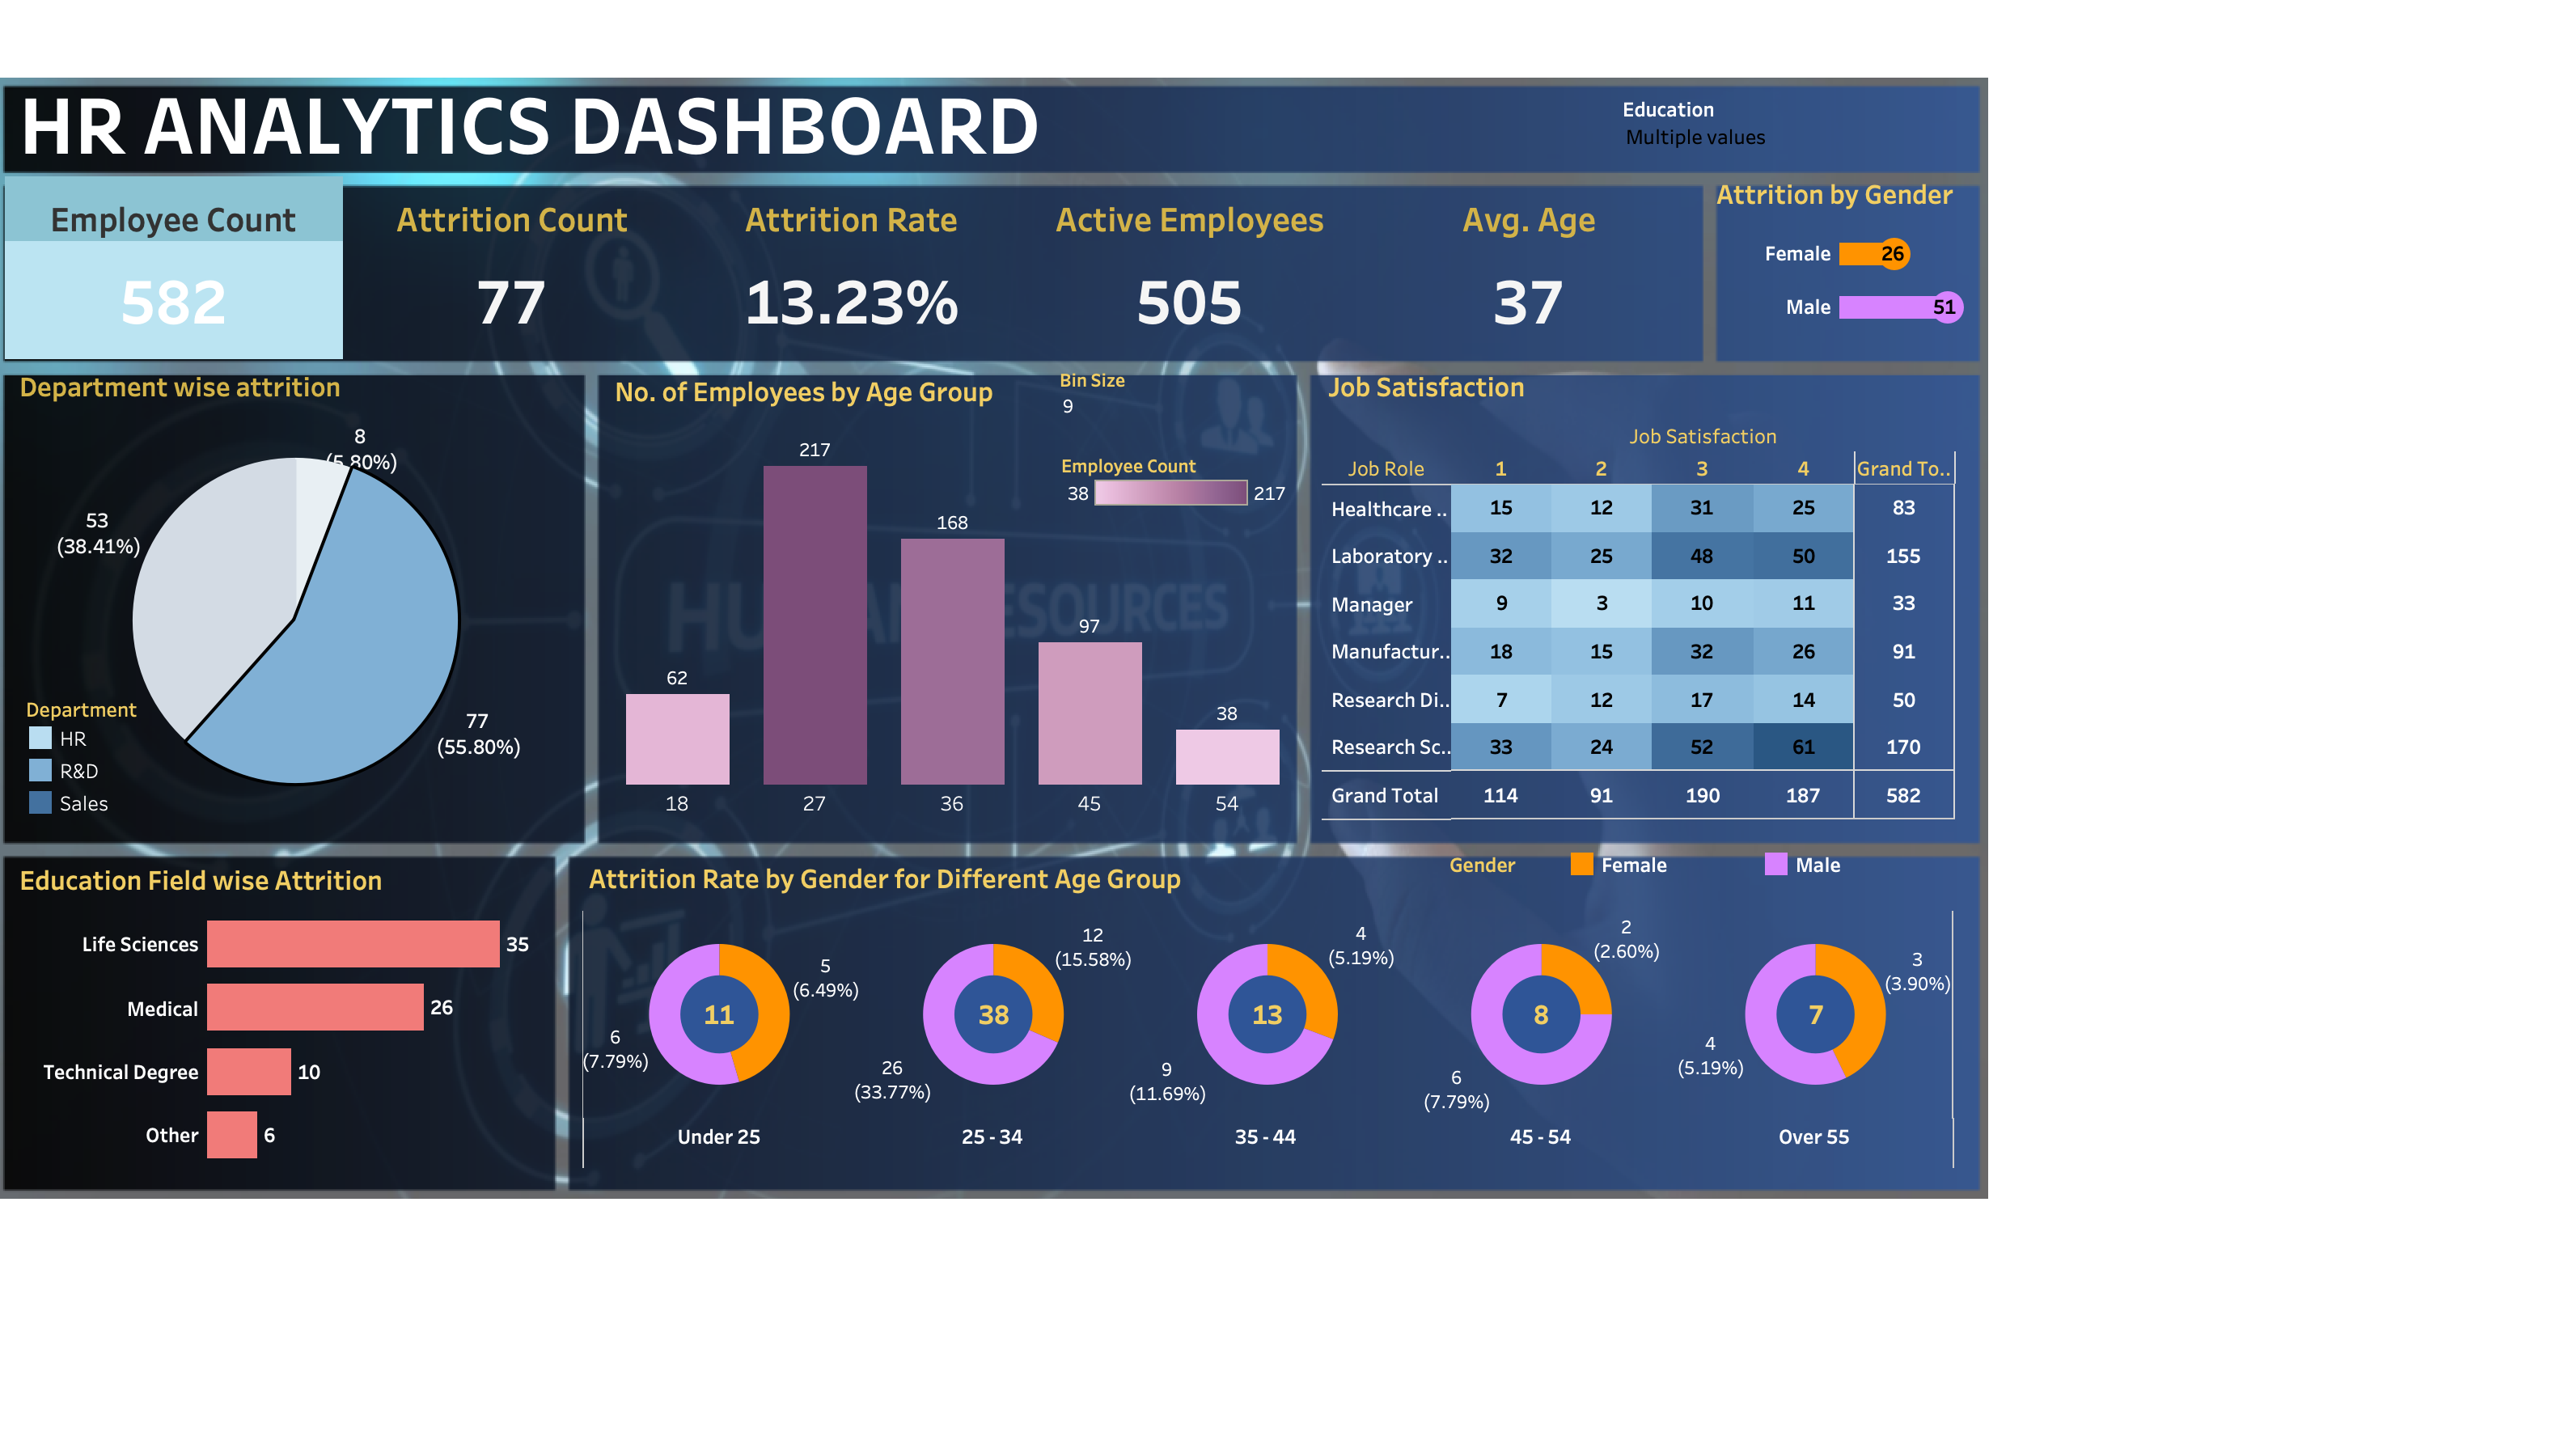

The page's visual inventory and layout, read from the dashboard file:
{"tool":"tableau","page":{"name":"HR Analytics Dashboard","canvas":[1580,900],"ordinal":0},"visuals":[{"type":"text","box":[9,46,668,58]},{"type":"filter","title":"Department wise attrition","param":"[federated.126c1e90978m581b9r5nd1xhx7pi].[none:Education:nk]","box":[1003,58,202,43]},{"type":"worksheet","title":"Attrition by Gender","mark":"Automatic","rows":["Gender"],"cols":["Calculation_2159546423284682752","Calculation_2159546423284682752"],"box":[1057,103,161,103]},{"type":"worksheet","title":"KPI","mark":"Automatic","box":[3,109,1047,113]},{"type":"worksheet","title":"Department wise attrition","mark":"Pie","box":[8,222,349,286]},{"type":"worksheet","title":"Job Satisfaction","mark":"Square","rows":["Job Role"],"cols":["Job Satisfaction"],"box":[817,222,392,285]},{"type":"worksheet","title":"No. of Employees by Age Group","mark":"Automatic","rows":["Employee Count"],"cols":["Age (bin)"],"box":[376,225,426,281]},{"type":"parameter","param":"[Parameters].[Parameter 1]","box":[655,226,141,47]},{"type":"legend","title":"No. of Employees by Age Group","param":"[federated.126c1e90978m581b9r5nd1xhx7pi].[sum:Employee Count:qk]","box":[656,276,144,46]},{"type":"legend","title":"Department wise attrition","param":"[federated.126c1e90978m581b9r5nd1xhx7pi].[none:Department:nk]","box":[15,428,114,78]},{"type":"legend","title":"Attrition Rate by Gender for Different Age Group","param":"[federated.126c1e90978m581b9r5nd1xhx7pi].[none:Gender:nk]","box":[896,524,308,35]},{"type":"worksheet","title":"Attrition Rate by Gender for Different Age Group","mark":"Pie","rows":["Calculation_2159546423493193736","Calculation_2159546423493193736"],"cols":["CF_age band"],"box":[360,526,849,197]},{"type":"worksheet","title":"Education Field wise Attrition","mark":"Automatic","rows":["Education Field"],"cols":["Calculation_2159546423284682752"],"box":[8,527,337,194]}]}

Visuals, with their boxes in screenshot pixels (x1, y1, x2, y2), scaled from the page's 1580x900 canvas onto the 2556x1456 screenshot:
text: <region>15, 74, 1095, 168</region>
"Department wise attrition" filter: <region>1623, 94, 1949, 163</region>
"Attrition by Gender" worksheet: <region>1710, 167, 1970, 333</region>
"KPI" worksheet: <region>5, 176, 1699, 359</region>
"Department wise attrition" worksheet (Pie marks): <region>13, 359, 578, 822</region>
"Job Satisfaction" worksheet (Square marks): <region>1322, 359, 1956, 820</region>
"No. of Employees by Age Group" worksheet: <region>608, 364, 1297, 819</region>
parameter: <region>1060, 366, 1288, 442</region>
"No. of Employees by Age Group" legend: <region>1061, 447, 1294, 521</region>
"Department wise attrition" legend: <region>24, 692, 209, 819</region>
"Attrition Rate by Gender for Different Age Group" legend: <region>1449, 848, 1948, 904</region>
"Attrition Rate by Gender for Different Age Group" worksheet (Pie marks): <region>582, 851, 1956, 1170</region>
"Education Field wise Attrition" worksheet: <region>13, 853, 558, 1166</region>
